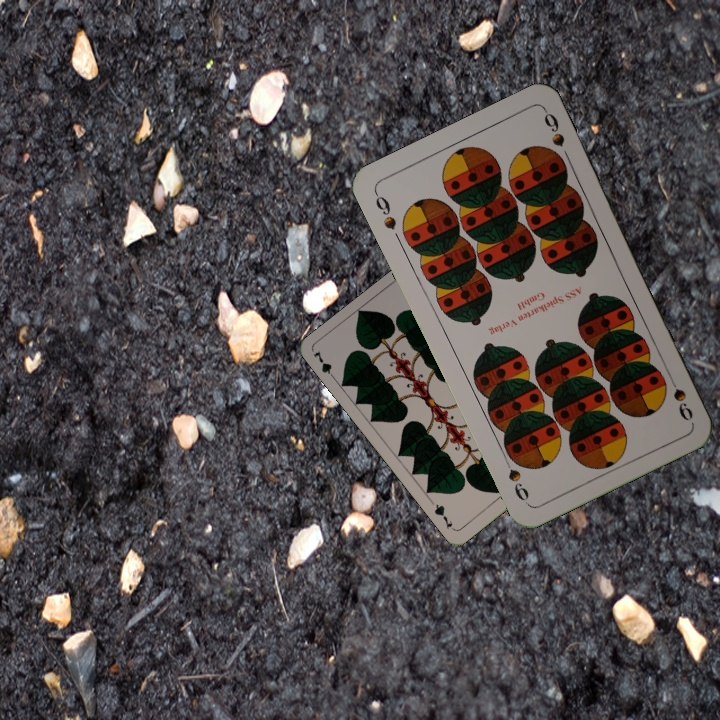G7: (309, 347, 339, 384)
S9: (370, 188, 399, 233), (669, 380, 696, 424)
